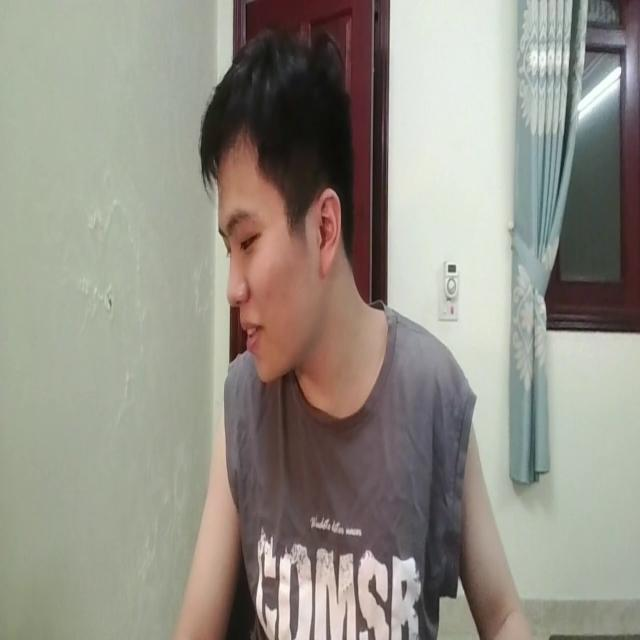student: (156, 33, 524, 640)
